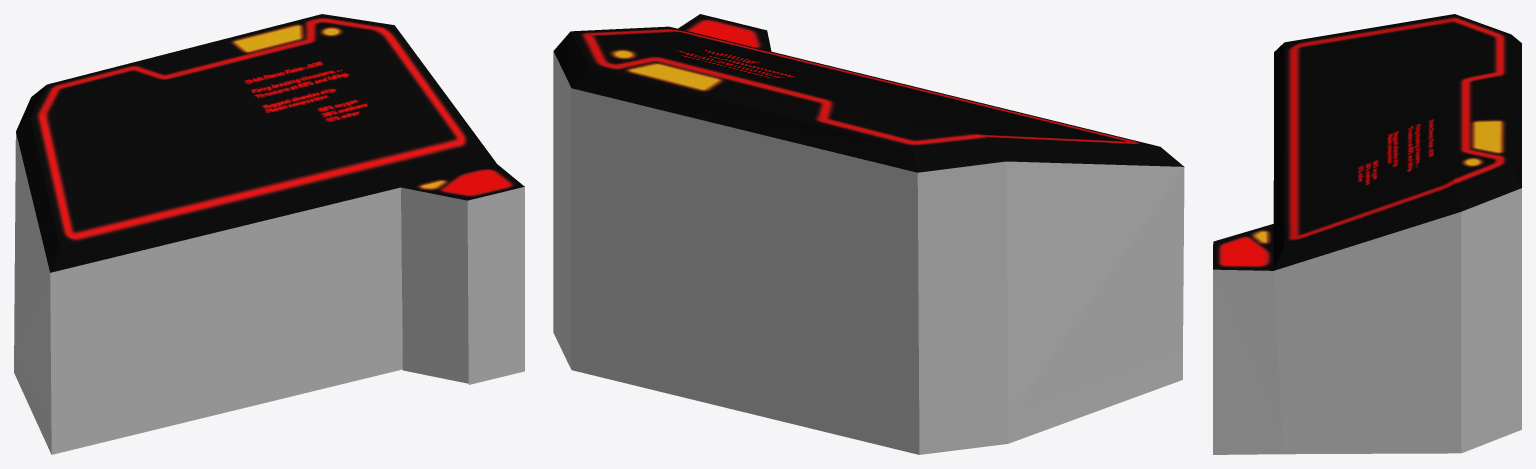
File: control_console_right.FBX
3 renders of one model, left to right at view 1: azimuth 30°, elevation 25°; view 2: azimuth 150°, elevation 25°; view 3: azimuth 270°, elevation 25°, orthographic. The views are drawn at different scales.
Visible parts, largest first — view 1: control_console_right; view 2: control_console_right; view 3: control_console_right.
Boxes of the visible parts, x1=… form: control_console_right: x1=14, y1=14, x2=524, y2=454; control_console_right: x1=553, y1=14, x2=1184, y2=454; control_console_right: x1=1213, y1=14, x2=1521, y2=454.
Bounding box in the file's own units: 8740 × 4894 × 5214.
